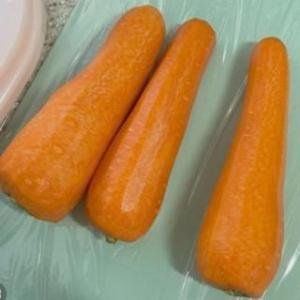carrot: (1, 3, 167, 223), (82, 15, 218, 245), (193, 33, 289, 298)
